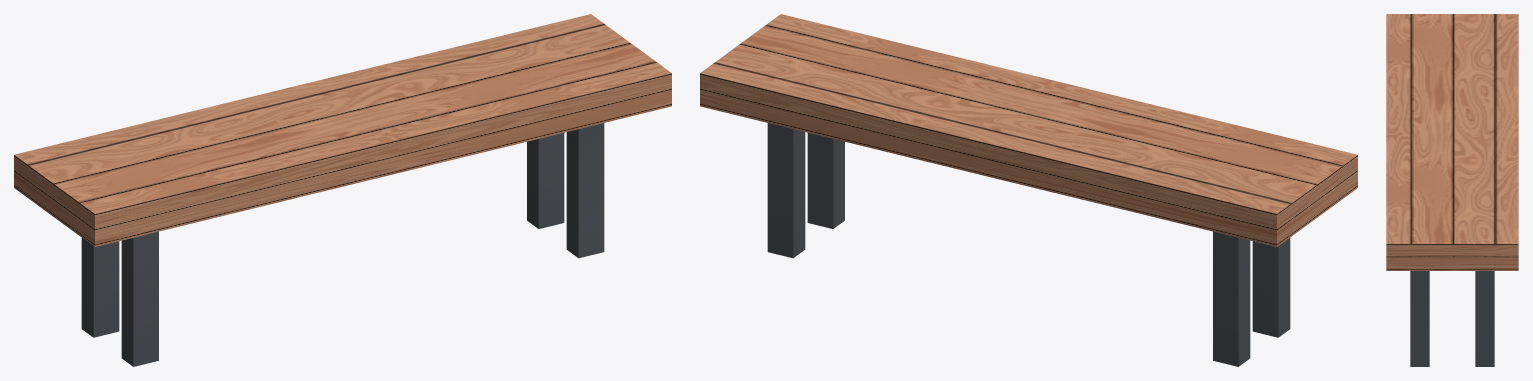
File: bench1.fbx
3 renders of one model, left to right at view 1: azimuth 30°, elevation 25°; view 2: azimuth 150°, elevation 25°; view 3: azimuth 270°, elevation 25°, orthographic. The views are drawn at different scales.
Visible parts, largest first — view 1: bench1; view 2: bench1; view 3: bench1.
Boxes of the visible parts, x1,y1,x2,y2 form: bench1: (14,14,671,366); bench1: (700,14,1357,366); bench1: (1386,14,1518,366).
Bounding box in the file's own units: 200 × 58.51 × 48.57.
1 material, 1 textured.
